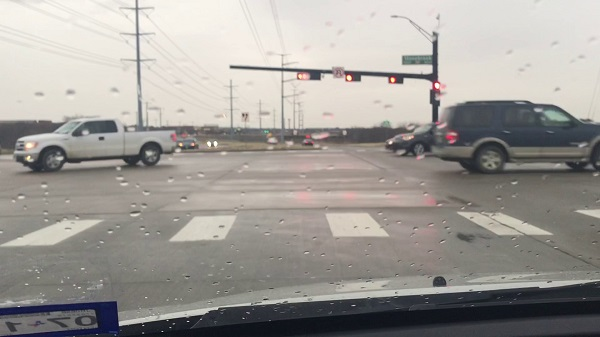car: (439, 103, 600, 175), (395, 125, 438, 159)
truck: (15, 117, 175, 168)
